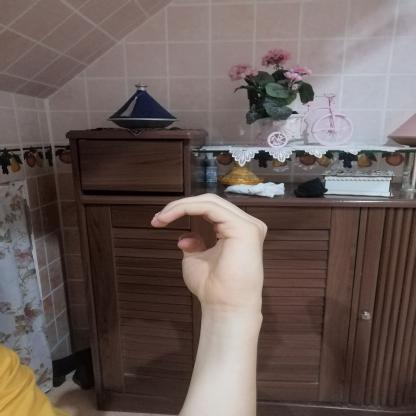JEEM: (139, 183, 283, 315)
